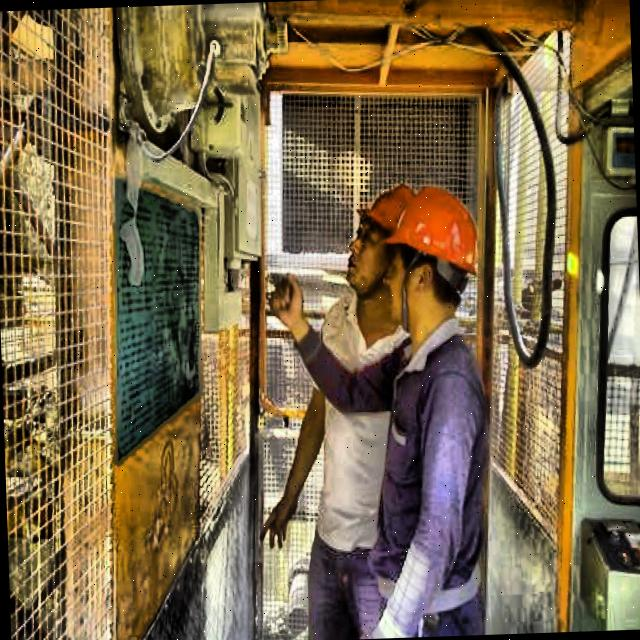helmet: (381, 184, 479, 327), (340, 182, 424, 314)
